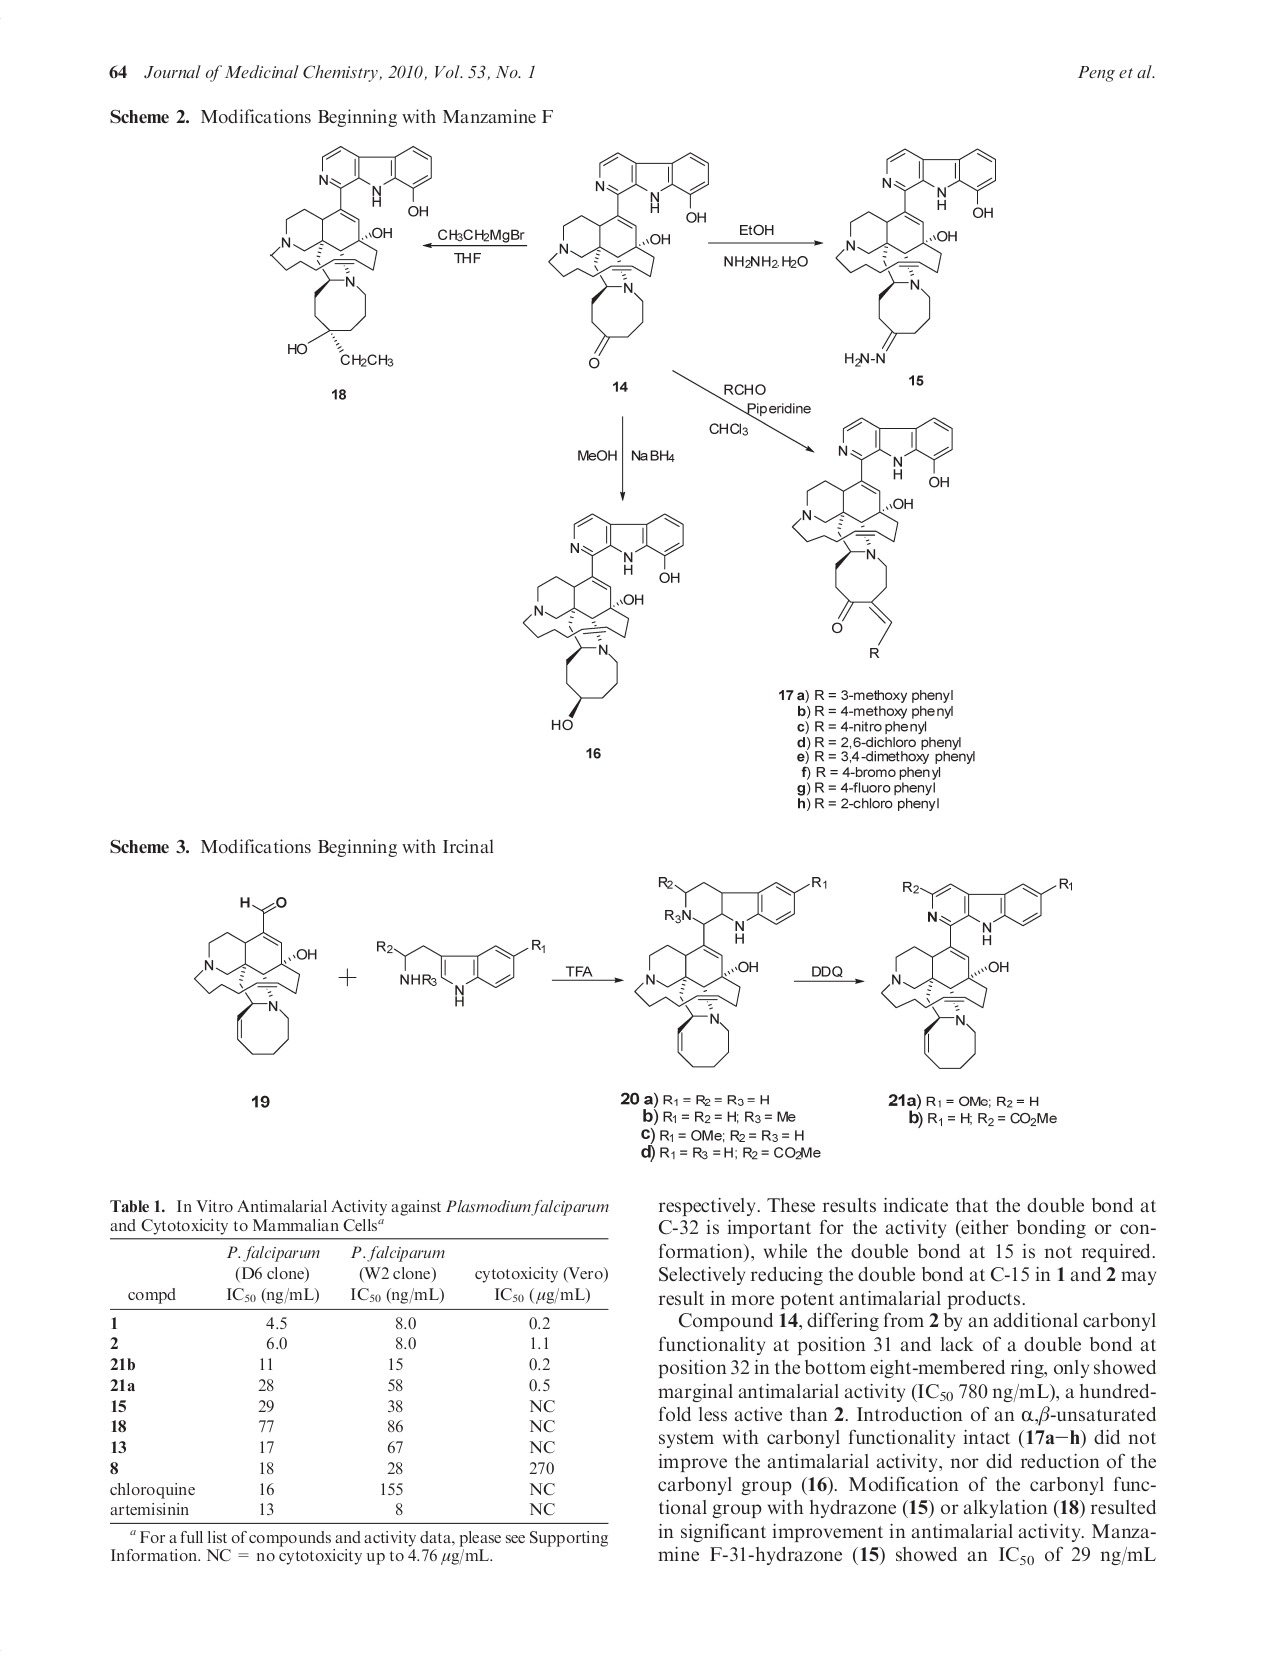exist_molecular: (793, 418, 956, 661), (633, 872, 831, 1071), (880, 872, 1076, 1073), (832, 146, 999, 371), (271, 144, 434, 368), (547, 149, 711, 370), (523, 512, 688, 731), (194, 894, 320, 1059), (374, 934, 547, 1011)
